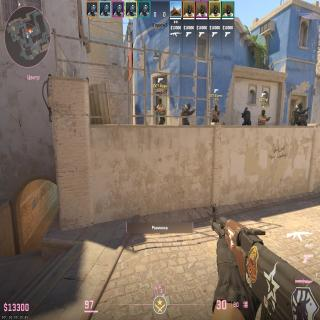CT-Body: (290, 102, 302, 125), (182, 102, 191, 125), (243, 107, 251, 125), (300, 111, 308, 125)
CT-Head: (297, 102, 302, 108), (187, 102, 190, 110), (245, 107, 248, 111)
T-Body: (157, 98, 166, 123), (212, 105, 220, 122), (258, 110, 267, 125)
T-Head: (262, 109, 266, 116), (158, 98, 162, 104), (215, 105, 218, 111)
